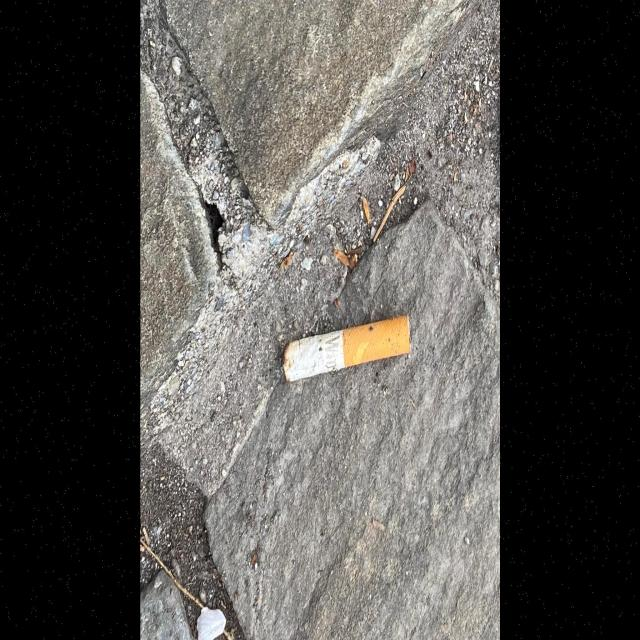other waste: (281, 312, 410, 383)
